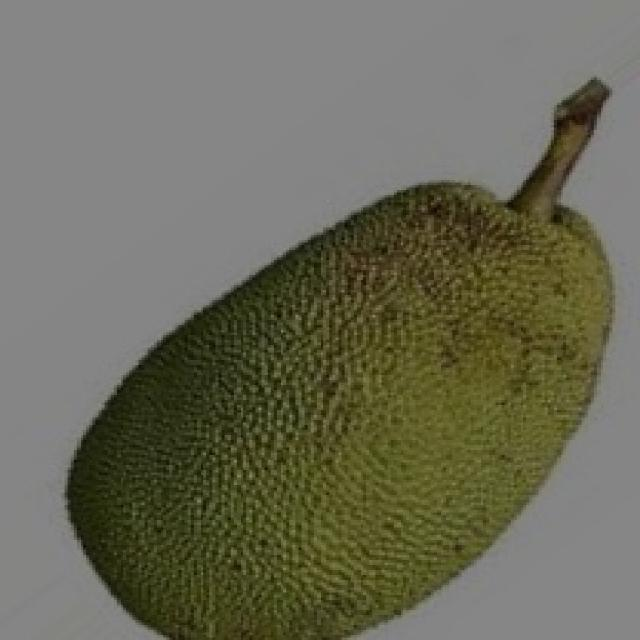Fruit: (231, 160, 640, 618), (37, 237, 424, 640)
